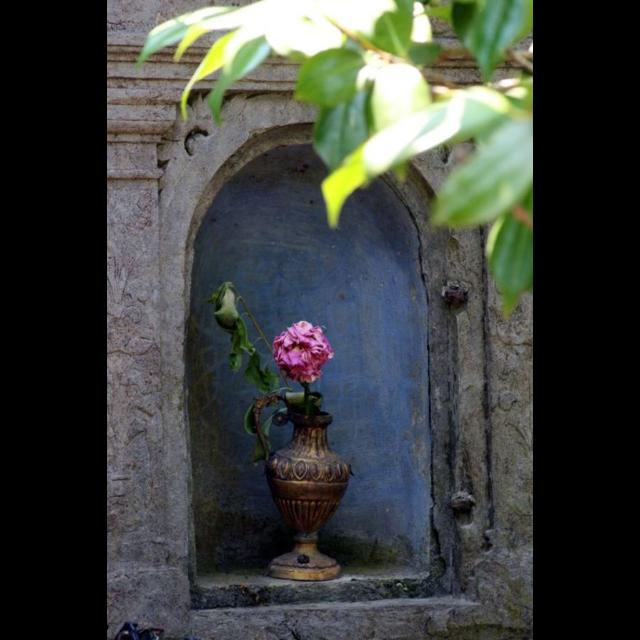Flower: (272, 320, 334, 392), (213, 288, 241, 324)
